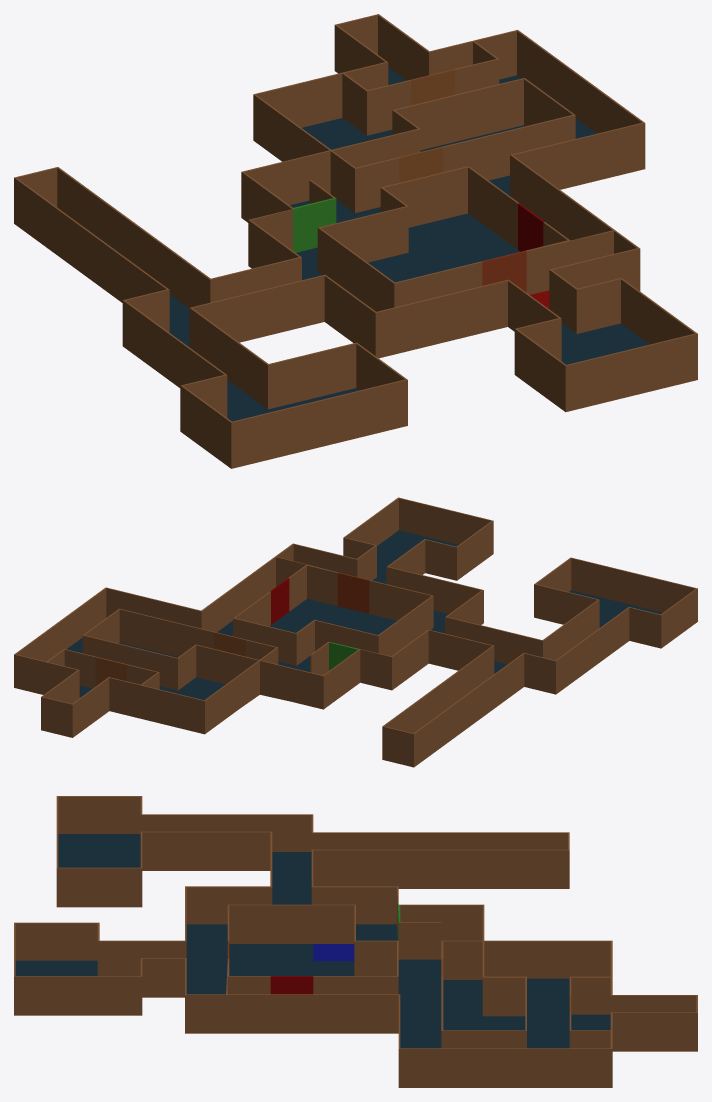
Rendered from testmap1 - Region 1.obj.
The picture shows the model from 3 angles, top to bottom: view 1: azimuth 30°, elevation 25°; view 2: azimuth 150°, elevation 25°; view 3: azimuth 270°, elevation 25°; orthographic projection. The views are drawn at different scales.
Visible parts, largest first — view 1: gc_export; view 2: gc_export; view 3: gc_export.
Boxes of the visible parts, x1=… form: gc_export: x1=14, y1=14, x2=697, y2=468; gc_export: x1=14, y1=497, x2=697, y2=767; gc_export: x1=14, y1=796, x2=697, y2=1087.
Size of the model in its own units: 14 by 1.04 by 16.
